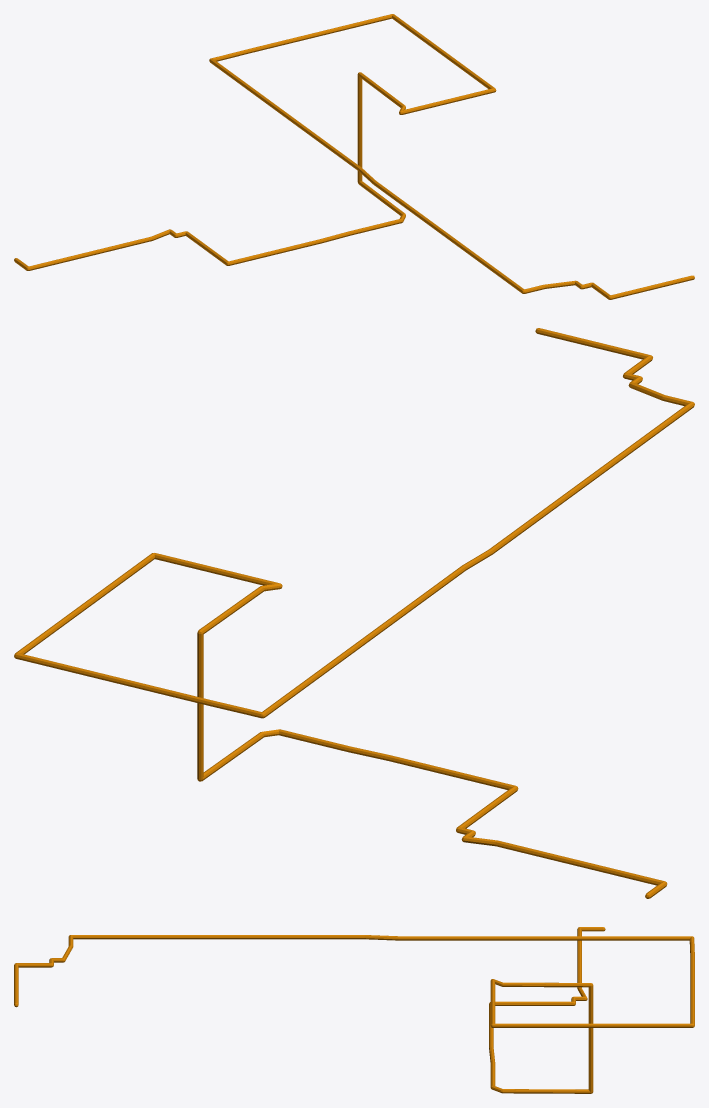
3 renders of one model, top to bottom at view 1: azimuth 30°, elevation 25°; view 2: azimuth 150°, elevation 25°; view 3: azimuth 270°, elevation 25°, orthographic. The views are drawn at different scales.
Size of the model in its own units: 2063 by 520 by 2898.
